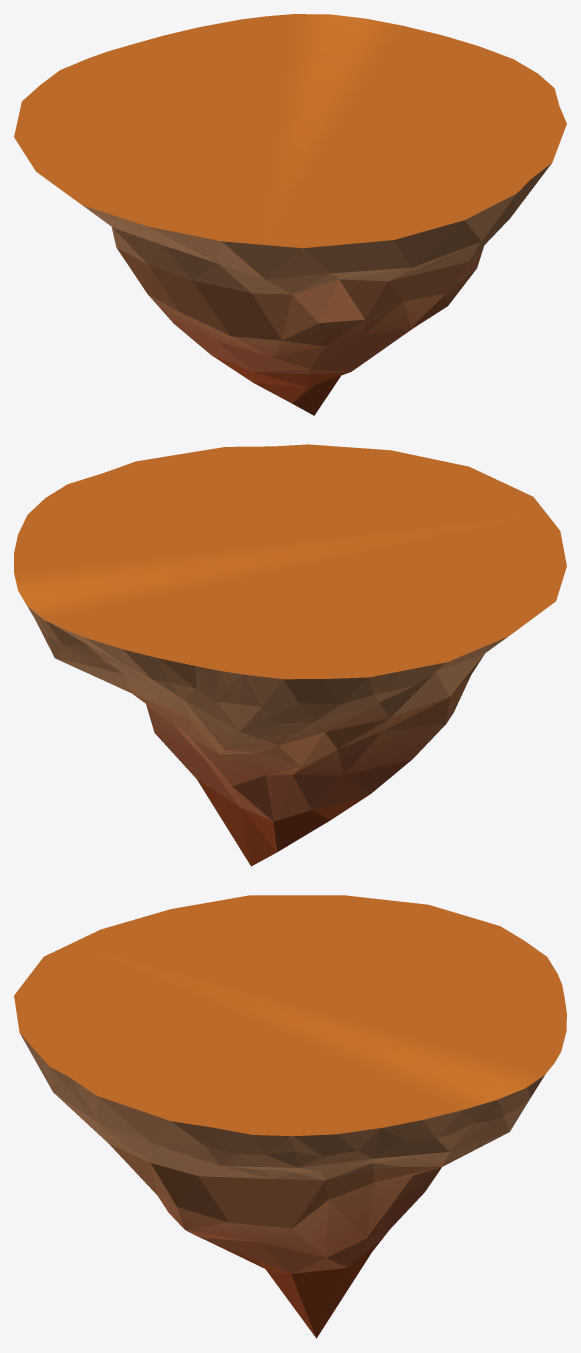
The model's file is island_G4C.fbx.
The picture shows the model from 3 angles, top to bottom: view 1: azimuth 30°, elevation 25°; view 2: azimuth 150°, elevation 25°; view 3: azimuth 270°, elevation 25°; orthographic projection. The views are drawn at different scales.
Parts seen in each view (by area): view 1: Land.001, Land; view 2: Land.001, Land; view 3: Land.001, Land.
Boxes of the visible parts, box(x1,y1,x2,y2) form: Land.001: box(14, 14, 566, 248); Land: box(79, 163, 551, 415); Land.001: box(14, 444, 566, 679); Land: box(27, 606, 507, 866); Land.001: box(14, 895, 566, 1136); Land: box(20, 1033, 544, 1338).
Bounding box in the file's own units: 4015 × 2406 × 3895.
